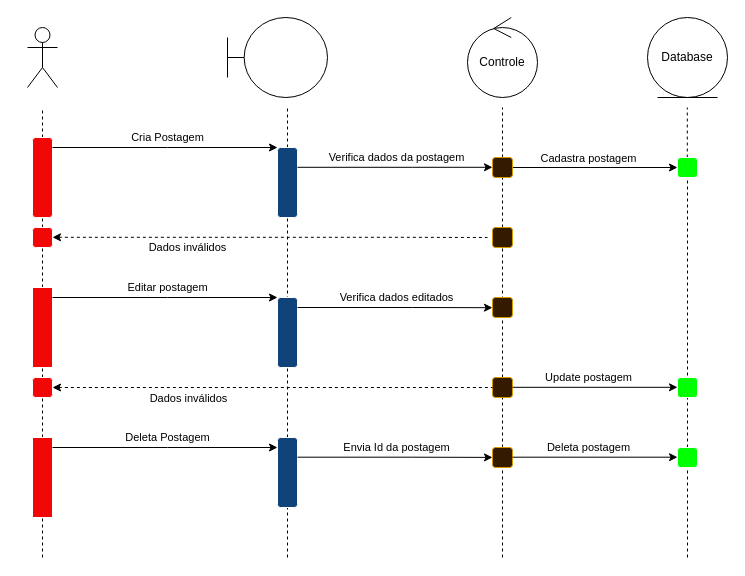
Image size: 745x576. Some labels were removed from this diagram. The centre of each missing label's shape, as x and y in pixels:
"Portal" goes at (277,57).
"Professor" goes at (42,57).
